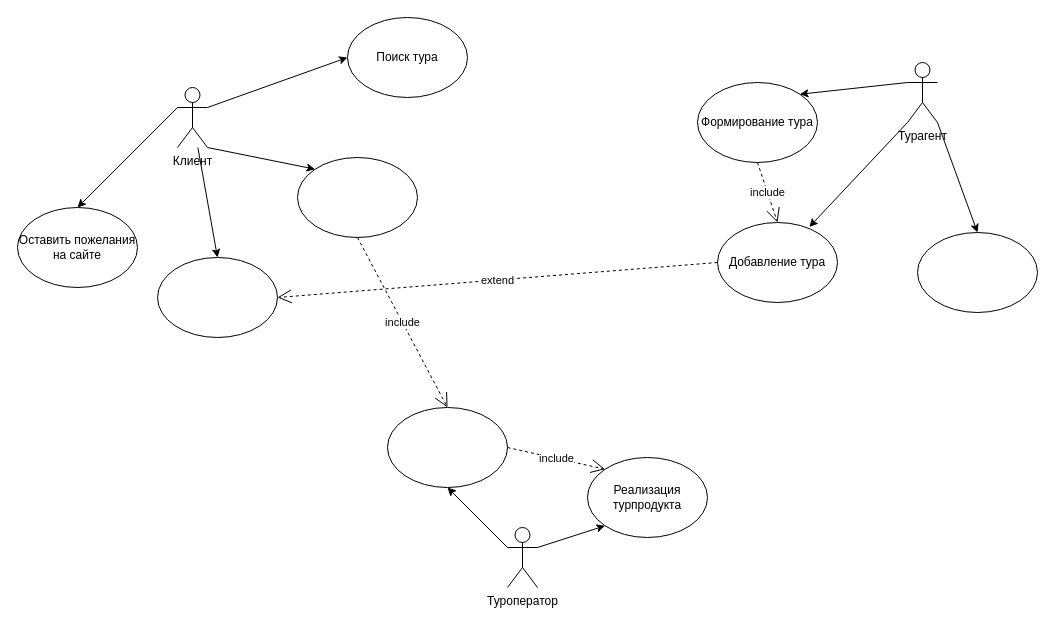
Some shapes in this 1055 by 626 pixel diagram are drawn without their labels. Each missing label, with the centre of its shape:
"Бронирование тура" belongs at pixel 357 197.
"Оформление договора" belongs at pixel 447 447.
"Прогнозирование продаж" belongs at pixel 977 272.
"Просмотр информации о туре" belongs at pixel 217 297.
